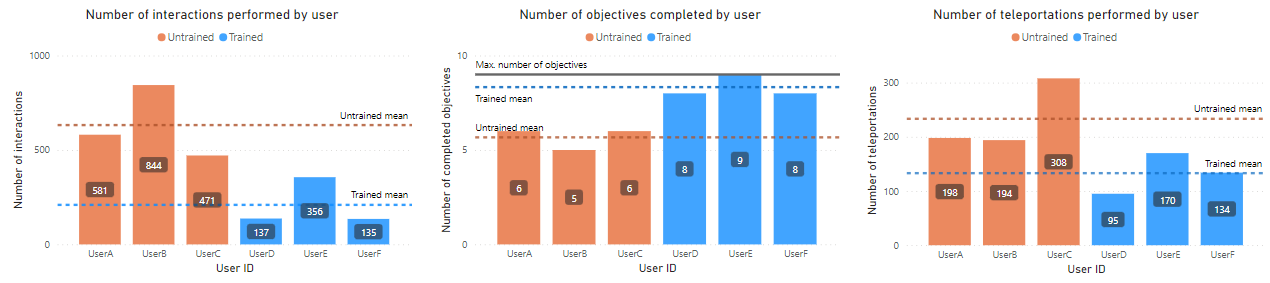

What the dashboard file says about the page in this screenshot:
{"tool":"powerbi","page":{"name":"Página 1","canvas":[2000,2000],"ordinal":5},"visuals":[{"type":"columnChart","title":"Number of interactions performed by user","fields":{"Category":["interacciones.User ID"],"Y":["Sum(interacciones.Number of Interactions)"],"Series":["user_type.Type"]},"box":[27.5,156.2,510,341.2],"z":0},{"type":"columnChart","title":"Number of objectives completed by user","fields":{"Category":["objetivos.User ID"],"Y":["Sum(objetivos.Number of objetives)"],"Series":["objetivos.User Type"]},"box":[562.5,156.2,510,341.2],"z":1000},{"type":"columnChart","title":"Number of teleportations performed by user","fields":{"Category":["teleport.User ID"],"Series":["teleport.User Type"],"Y":["Sum(teleport.Number of teleports)"]},"box":[1095,156.2,510,342.5],"z":2000}]}

Visuals, with their boxes on the page's 2000x2000 design canvas (x1, y1, x2, y2). These are canvas units, not pixel positions in the 1270x283 screenshot, which may show the page scaled, cropped or inside an application window:
"Number of interactions performed by user" columnChart: box(28, 156, 538, 497)
"Number of objectives completed by user" columnChart: box(562, 156, 1072, 497)
"Number of teleportations performed by user" columnChart: box(1095, 156, 1605, 499)
